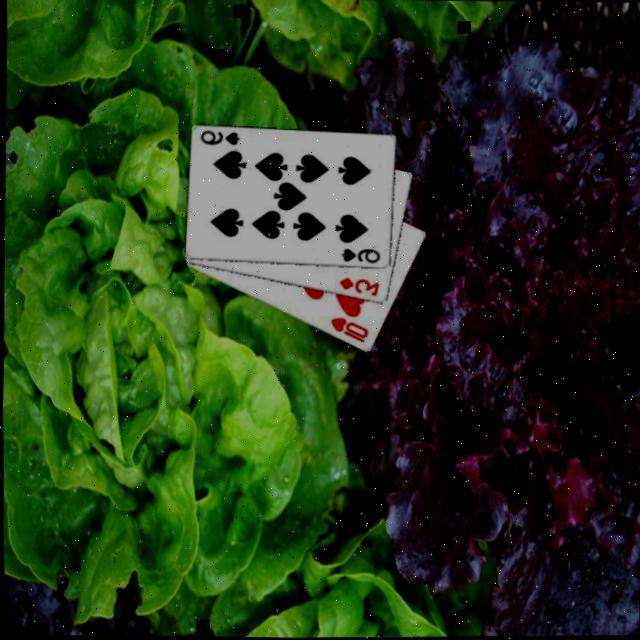10H: (325, 315, 368, 347)
3D: (334, 275, 378, 300)
9S: (336, 246, 380, 267), (195, 128, 239, 149)
